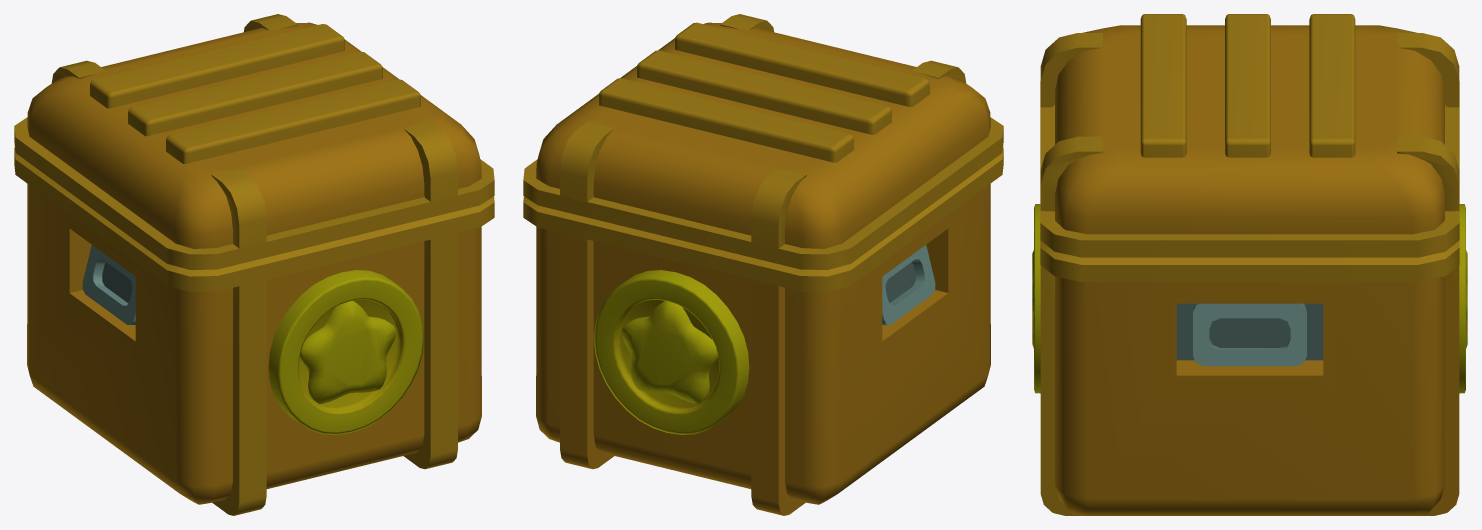
The model's file is Chest.fbx.
3 views of the same model, side by side, from view 1: azimuth 30°, elevation 25°; view 2: azimuth 150°, elevation 25°; view 3: azimuth 270°, elevation 25° (orthographic). The views are drawn at different scales.
Visible parts, largest first — view 1: Chest; view 2: Chest; view 3: Chest.
Boxes of the visible parts, x1,y1,x2,y2 form: Chest: (14, 14, 494, 515); Chest: (523, 14, 1003, 515); Chest: (1032, 14, 1467, 515).
Bounding box in the file's own units: 215 × 215 × 223.
